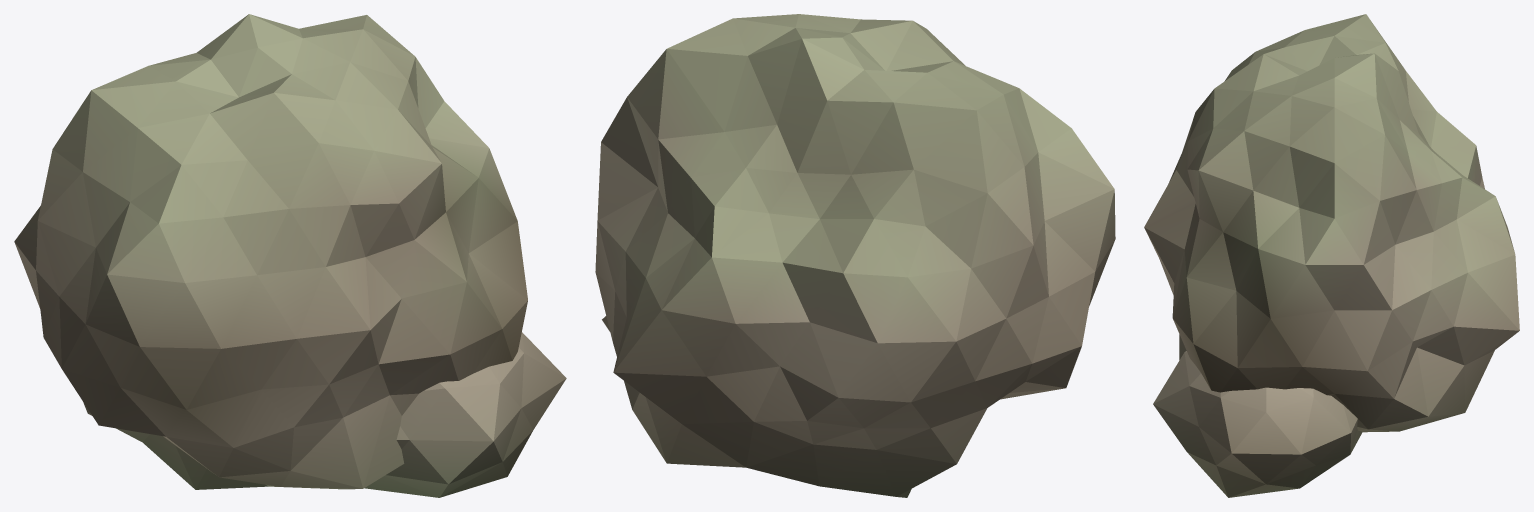
File: prop_rock_boulder_mossy_01.glb
3 renders of one model, left to right at view 1: azimuth 30°, elevation 25°; view 2: azimuth 150°, elevation 25°; view 3: azimuth 270°, elevation 25°, orthographic. The views are drawn at different scales.
Visible parts, largest first — view 1: prop_rock_boulder_mossy_01; view 2: prop_rock_boulder_mossy_01; view 3: prop_rock_boulder_mossy_01.
Boxes of the visible parts, x1,y1,x2,y2 form: prop_rock_boulder_mossy_01: (14, 14, 566, 497); prop_rock_boulder_mossy_01: (595, 14, 1115, 497); prop_rock_boulder_mossy_01: (1144, 14, 1519, 497).
Bounding box in the file's own units: 0.7954 × 0.7236 × 0.6599.
